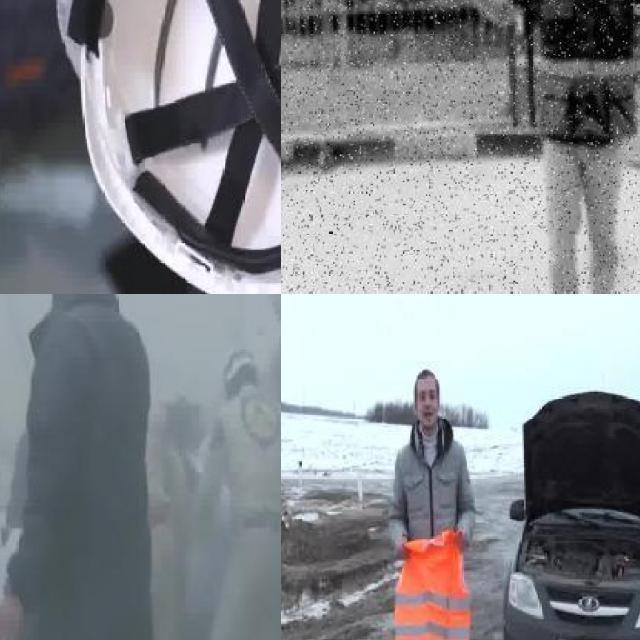apron: (38, 0, 144, 80)
